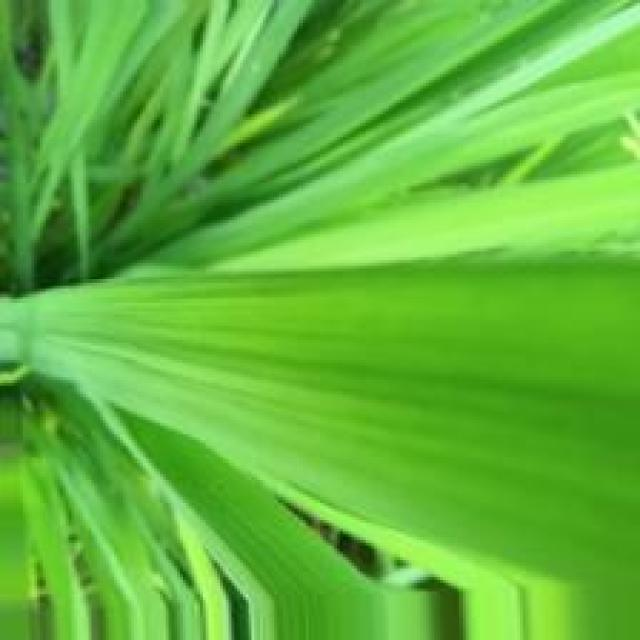HealthyLeaf: (72, 266, 628, 562), (167, 435, 343, 581)
